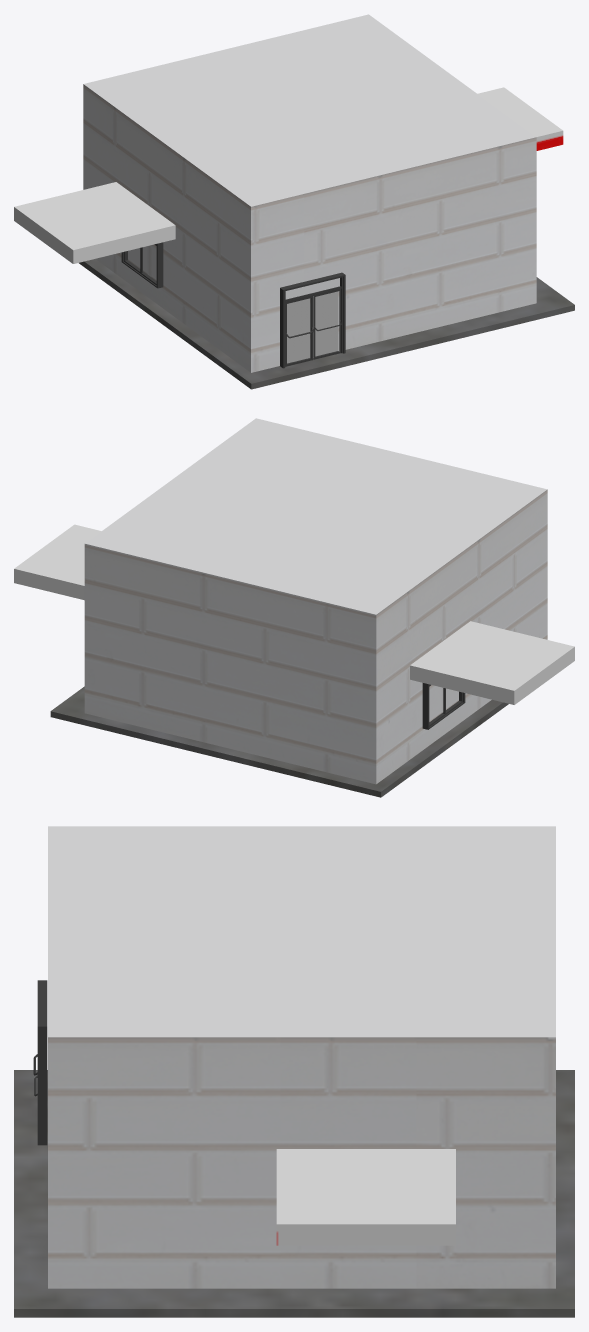
File: buger2.fbx
The picture shows the model from 3 angles, top to bottom: view 1: azimuth 30°, elevation 25°; view 2: azimuth 150°, elevation 25°; view 3: azimuth 270°, elevation 25°; orthographic projection. The views are drawn at different scales.
Visible parts, largest first — view 1: FastFood, StoneFloor, FastFood_Ceiling_R, DriveThru_Height_Limit, Door_Glass_L001, Door_Frame001, Door_Glass_R001, Door_Frame002, Door_Glass_Frame_R001, Door_Glass_Frame_L001; view 2: FastFood, FastFood_Ceiling_R, StoneFloor, DriveThru_Height_Limit, Door_Frame002; view 3: FastFood, StoneFloor, DriveThru_Height_Limit, Door_Frame001.
Part boxes in pixels (x1,y1,x2,y2): FastFood: (83, 14, 536, 372); StoneFloor: (79, 259, 574, 389); FastFood_Ceiling_R: (14, 182, 175, 263); DriveThru_Height_Limit: (477, 87, 563, 150); Door_Glass_L001: (313, 291, 338, 356); Door_Frame001: (280, 272, 345, 368); Door_Glass_R001: (287, 298, 309, 363); Door_Frame002: (121, 242, 163, 288); Door_Glass_Frame_R001: (313, 289, 341, 359); Door_Glass_Frame_L001: (285, 296, 313, 366); FastFood: (84, 418, 547, 784); FastFood_Ceiling_R: (410, 621, 574, 704); StoneFloor: (50, 686, 508, 797); DriveThru_Height_Limit: (14, 524, 101, 600); Door_Frame002: (422, 683, 465, 729); FastFood: (48, 826, 555, 1288); StoneFloor: (14, 1070, 574, 1317); DriveThru_Height_Limit: (276, 1149, 455, 1245); Door_Frame001: (37, 980, 47, 1145).
Size of the model in its own units: 1723 by 577 by 1128.
